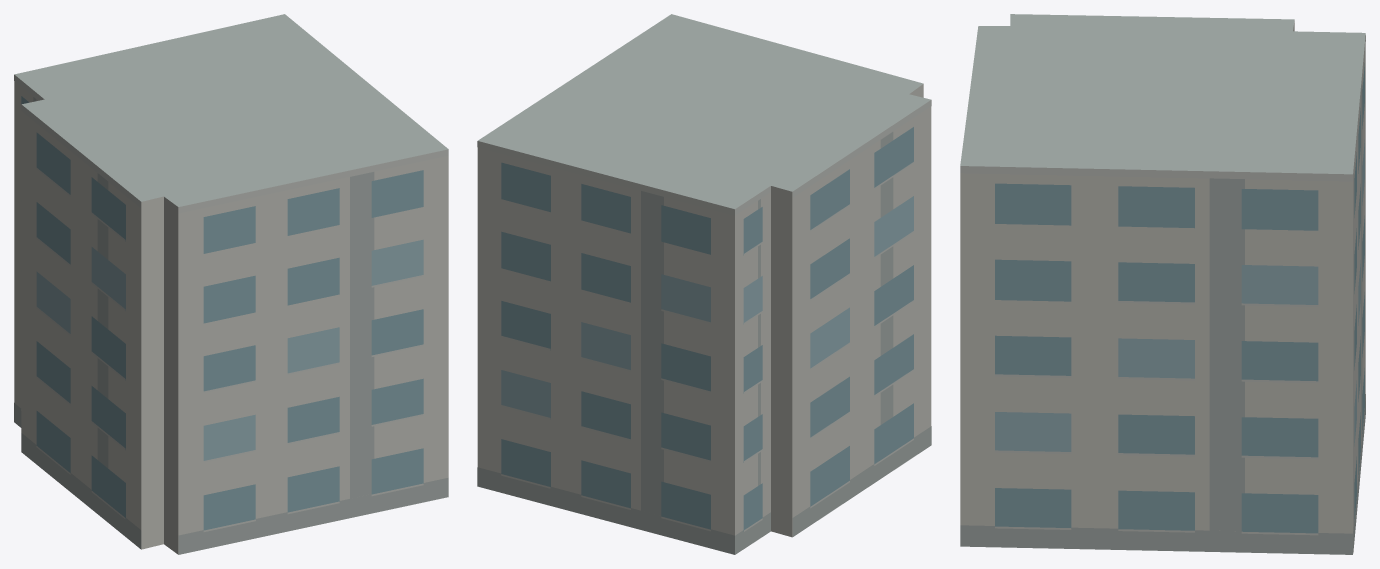
The model's file is survey-upis-33001167.glb.
The picture shows the model from 3 angles, left to right: view 1: azimuth 30°, elevation 25°; view 2: azimuth 150°, elevation 25°; view 3: azimuth 270°, elevation 25°; orthographic projection. The views are drawn at different scales.
Visible parts, largest first — view 1: survey-upis-33001167.tmp; view 2: survey-upis-33001167.tmp; view 3: survey-upis-33001167.tmp.
Part boxes in pixels (x1=…): survey-upis-33001167.tmp: x1=14, y1=14, x2=448, y2=554; survey-upis-33001167.tmp: x1=477, y1=14, x2=931, y2=554; survey-upis-33001167.tmp: x1=960, y1=14, x2=1365, y2=554.
Bounding box in the file's own units: 11.75 × 13 × 12.57.
